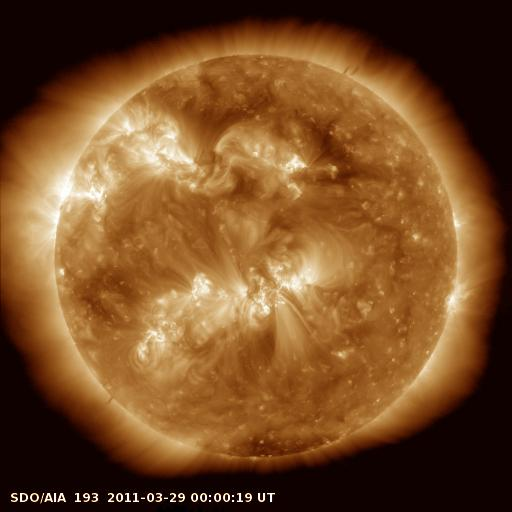coronal_hole: (198, 425, 350, 464), (297, 110, 360, 185)
